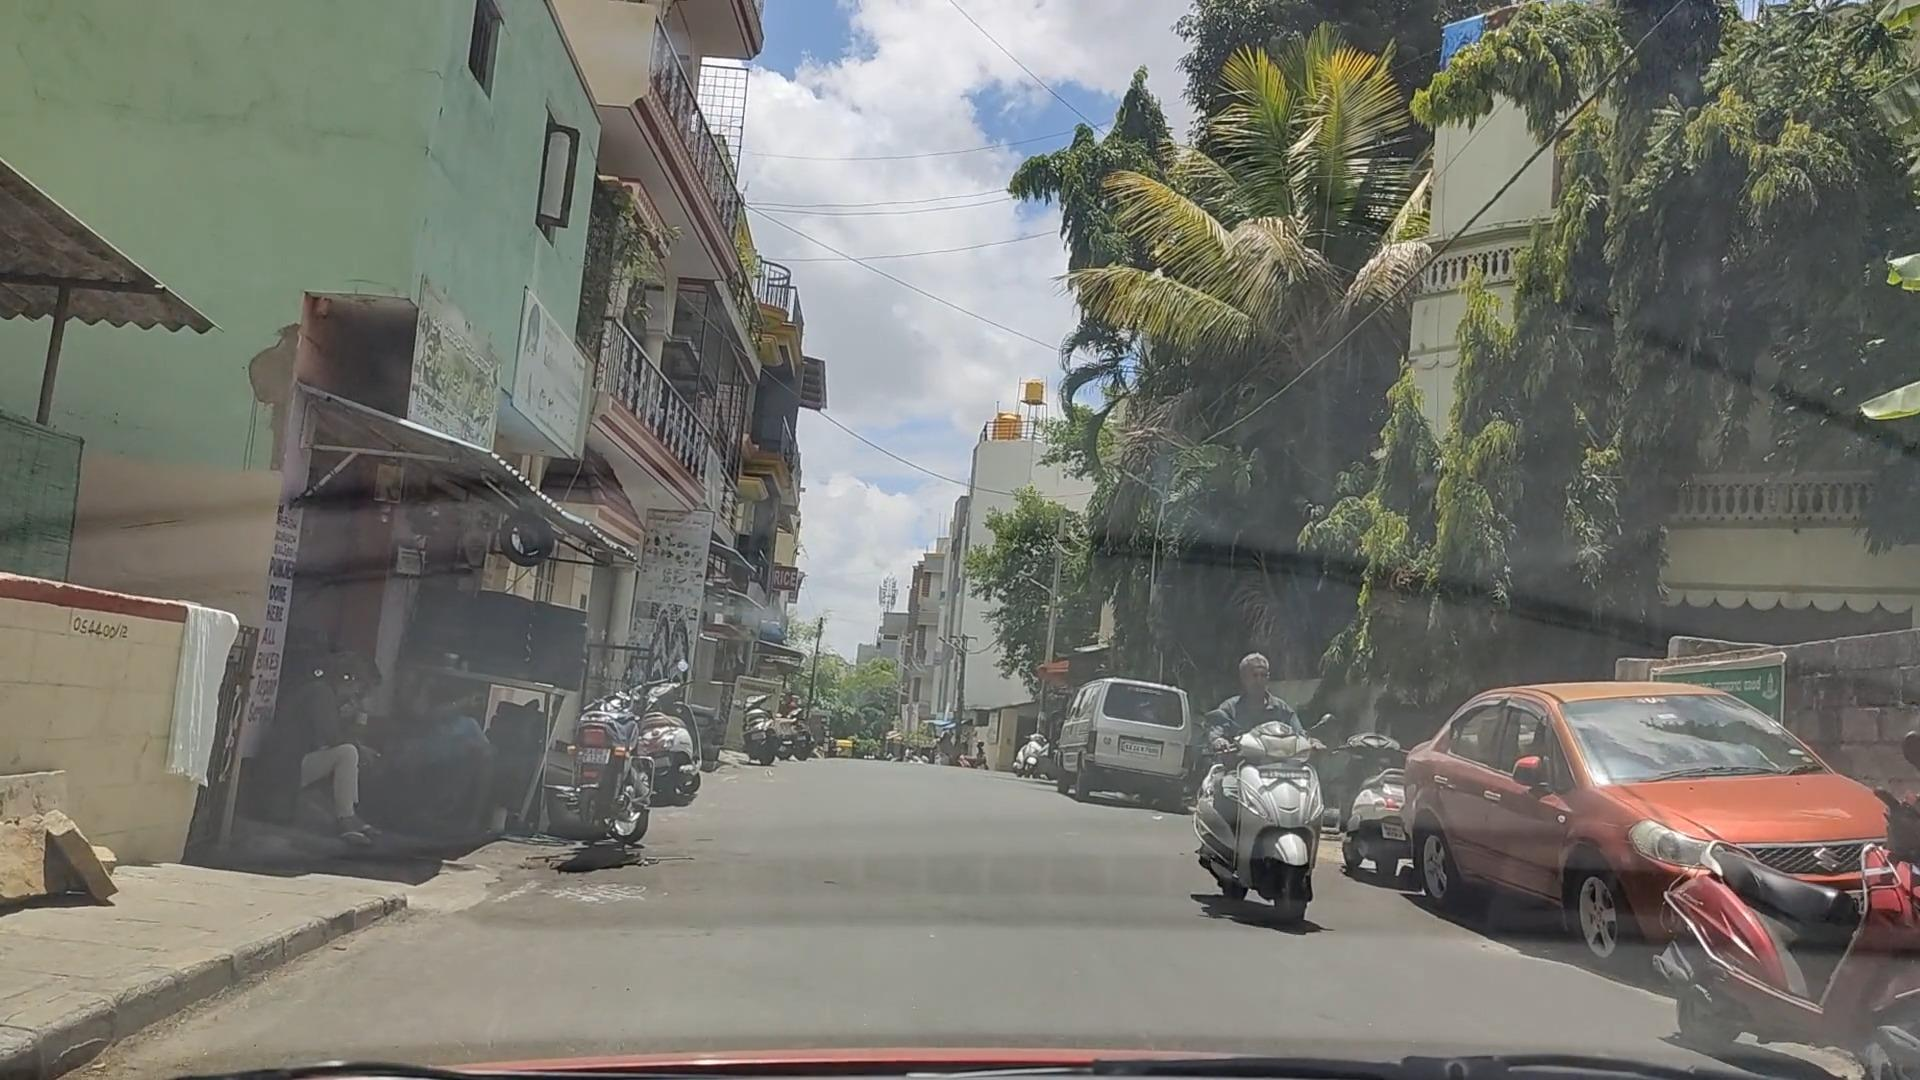LMV: (1216, 647, 1325, 914)
